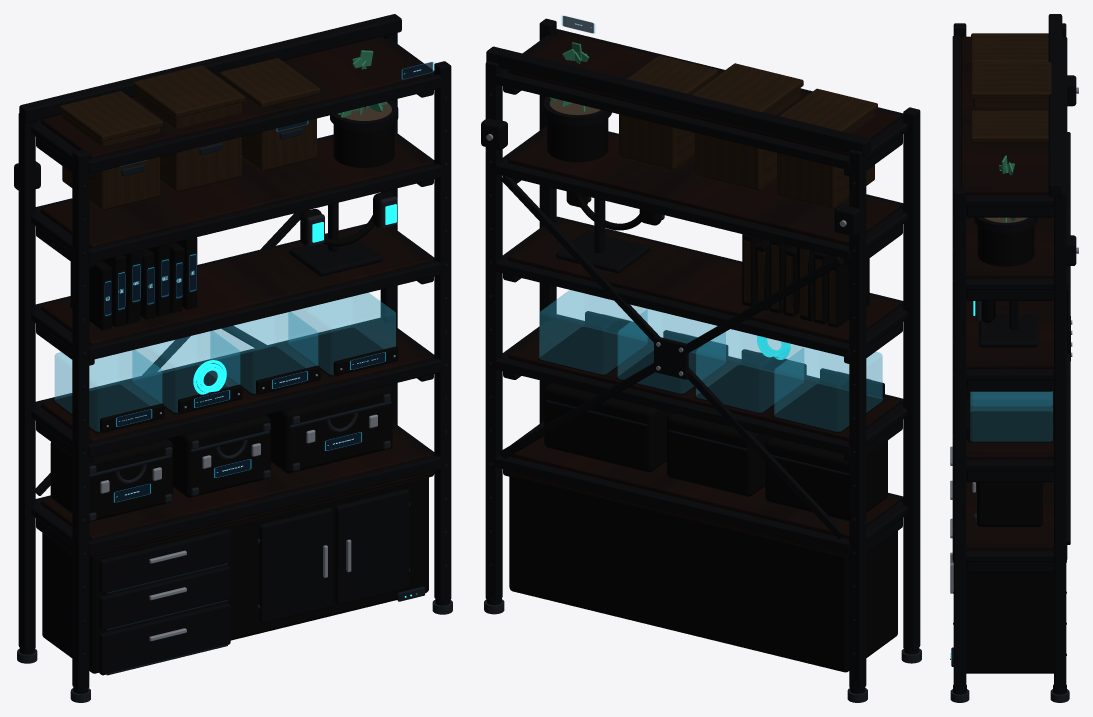
The model's file is storage-shelf.glb.
The picture shows the model from 3 angles, left to right: view 1: azimuth 30°, elevation 25°; view 2: azimuth 150°, elevation 25°; view 3: azimuth 270°, elevation 25°; orthographic projection. The views are drawn at different scales.
Parts seen in each view (by area): view 1: Cabinet_Carcass, Shelf_4_WoodInsert, Shelf_3_WoodInsert, Upright_LF, Upright_LB, Upright_RF, Shelf_5_WoodInsert, Shelf_1_WoodInsert, CabinetDoor_Right, CabinetDoor_Left, Case_3_NETWORK_Body, Case_1_FIELDKIT_Body (+48 smaller); view 2: Cabinet_Carcass, Shelf_4_WoodInsert, Shelf_3_WoodInsert, Upright_LF, Upright_LB, Upright_RB, Top_CrownRail, Case_3_NETWORK_Body, Shelf_1_WoodInsert, Bin_2_Shell, Bin_4_Shell, Bin_1_Shell (+42 smaller); view 3: Cabinet_Carcass, Upright_RF, Upright_RB, Shelf_5_WoodInsert, Bin_4_Shell, Shelf_3_WoodInsert, Shelf_1_WoodInsert, TopBox_2_Lid, Case_3_NETWORK_Body, Shelf_4_WoodInsert, Bin_4_Frame, Top_CrownRail (+25 smaller).
Part boxes in pixels (<box>): Cabinet_Carcass: <box>42,475,428,673</box>; Shelf_4_WoodInsert: <box>41,136,430,248</box>; Shelf_3_WoodInsert: <box>41,225,430,345</box>; Upright_LF: <box>72,149,89,690</box>; Upright_LB: <box>18,113,35,651</box>; Upright_RF: <box>434,61,451,602</box>; Shelf_5_WoodInsert: <box>41,37,430,158</box>; Shelf_1_WoodInsert: <box>41,427,430,540</box>; CabinetDoor_Right: <box>335,489,408,604</box>; CabinetDoor_Left: <box>259,507,332,623</box>; Case_3_NETWORK_Body: <box>266,385,392,473</box>; Case_1_FIELDKIT_Body: <box>50,439,172,521</box>; Cabinet_Carcass: <box>509,474,897,672</box>; Shelf_4_WoodInsert: <box>508,130,899,245</box>; Shelf_3_WoodInsert: <box>508,219,899,343</box>; Upright_LF: <box>903,107,920,650</box>; Upright_LB: <box>849,149,866,690</box>; Upright_RB: <box>485,61,502,601</box>; Top_CrownRail: <box>486,46,870,156</box>; Case_3_NETWORK_Body: <box>544,383,672,472</box>; Shelf_1_WoodInsert: <box>509,426,899,538</box>; Bin_2_Shell: <box>696,329,803,412</box>; Bin_4_Shell: <box>539,290,647,374</box>; Bin_1_Shell: <box>774,347,882,431</box>; Cabinet_Carcass: <box>966,571,1053,673</box>; Upright_RF: <box>953,188,966,690</box>; Upright_RB: <box>1054,188,1066,690</box>; Shelf_5_WoodInsert: <box>961,37,1048,194</box>; Bin_4_Shell: <box>970,391,1052,441</box>; Shelf_3_WoodInsert: <box>966,299,1053,368</box>; Shelf_1_WoodInsert: <box>966,480,1053,550</box>; TopBox_2_Lid: <box>971,62,1051,98</box>; Case_3_NETWORK_Body: <box>977,482,1042,526</box>; Shelf_4_WoodInsert: <box>966,216,1053,278</box>; Bin_4_Frame: <box>968,411,1053,442</box>; Top_CrownRail: <box>1048,14,1062,197</box>.
Size of the model in its own units: 1.51 by 2.12 by 0.477.
Materials: 12 (5 with a texture image).
